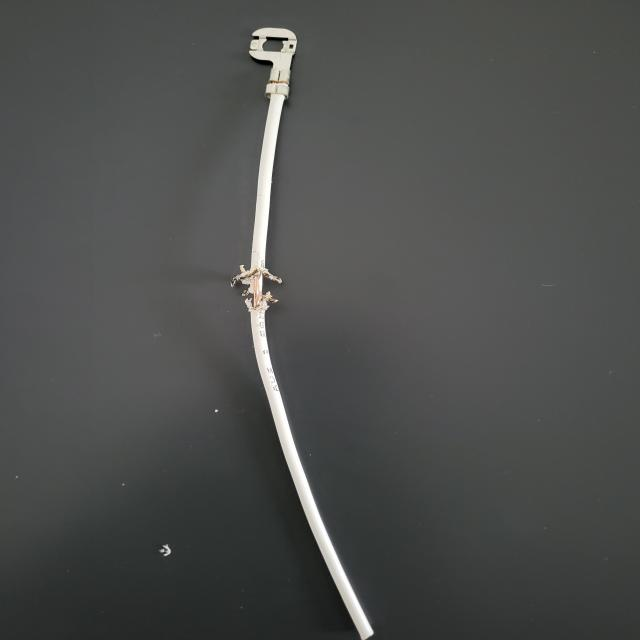defect: (177, 198, 403, 420)
